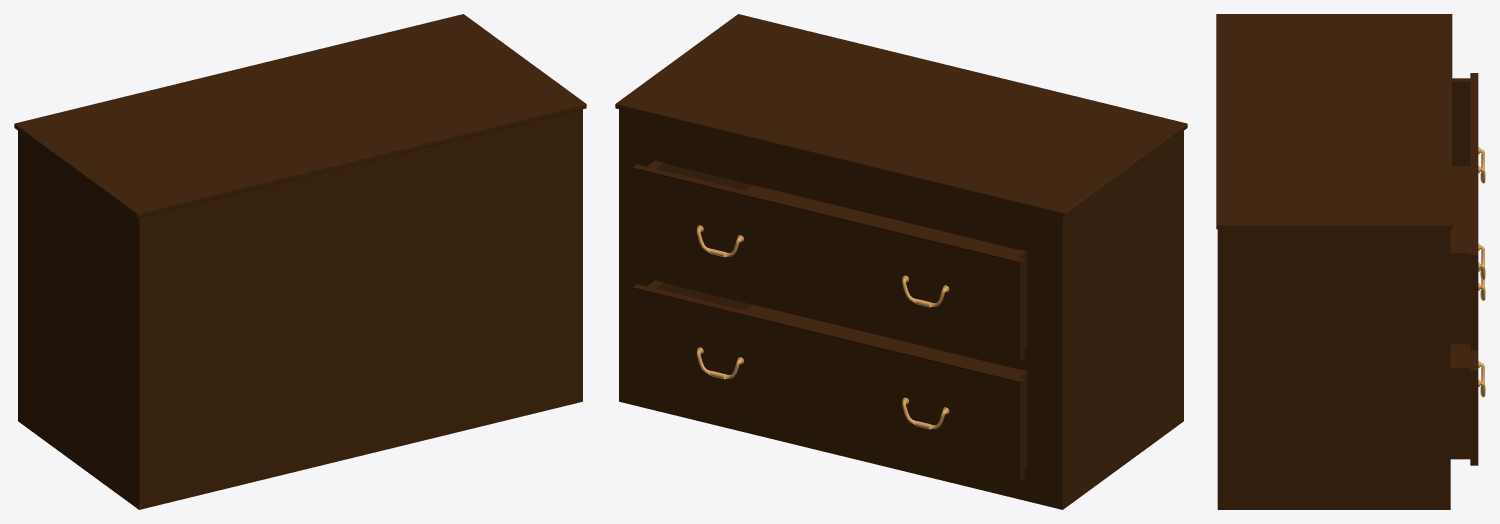
File: Dresser.fbx
The picture shows the model from 3 angles, left to right: view 1: azimuth 30°, elevation 25°; view 2: azimuth 150°, elevation 25°; view 3: azimuth 270°, elevation 25°; orthographic projection. The views are drawn at different scales.
Parts seen in each view (by area): view 1: Drawers; view 2: Drawers, Drawers_ExtLower, Drawers_ExtHigher; view 3: Drawers, Drawers_ExtHigher, Drawers_ExtLower.
Part boxes in pixels (x1=…): Drawers: x1=14, y1=14, x2=586, y2=509; Drawers: x1=615, y1=14, x2=1187, y2=509; Drawers_ExtLower: x1=632, y1=280, x2=1026, y2=480; Drawers_ExtHigher: x1=632, y1=160, x2=1026, y2=361; Drawers: x1=1216, y1=14, x2=1452, y2=509; Drawers_ExtHigher: x1=1450, y1=73, x2=1485, y2=350; Drawers_ExtLower: x1=1450, y1=268, x2=1485, y2=465.
Size of the model in its own units: 81.66 by 51.69 by 44.07.
